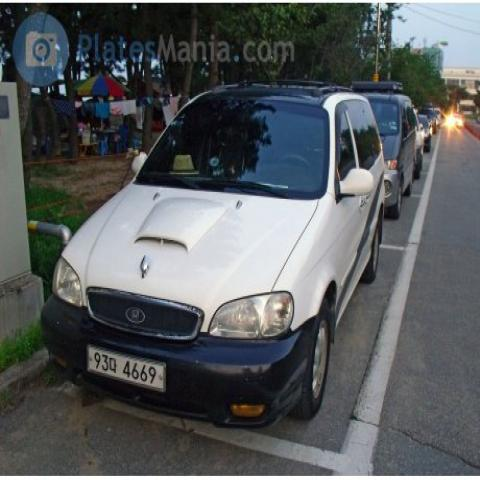LP: (79, 335, 170, 399)
